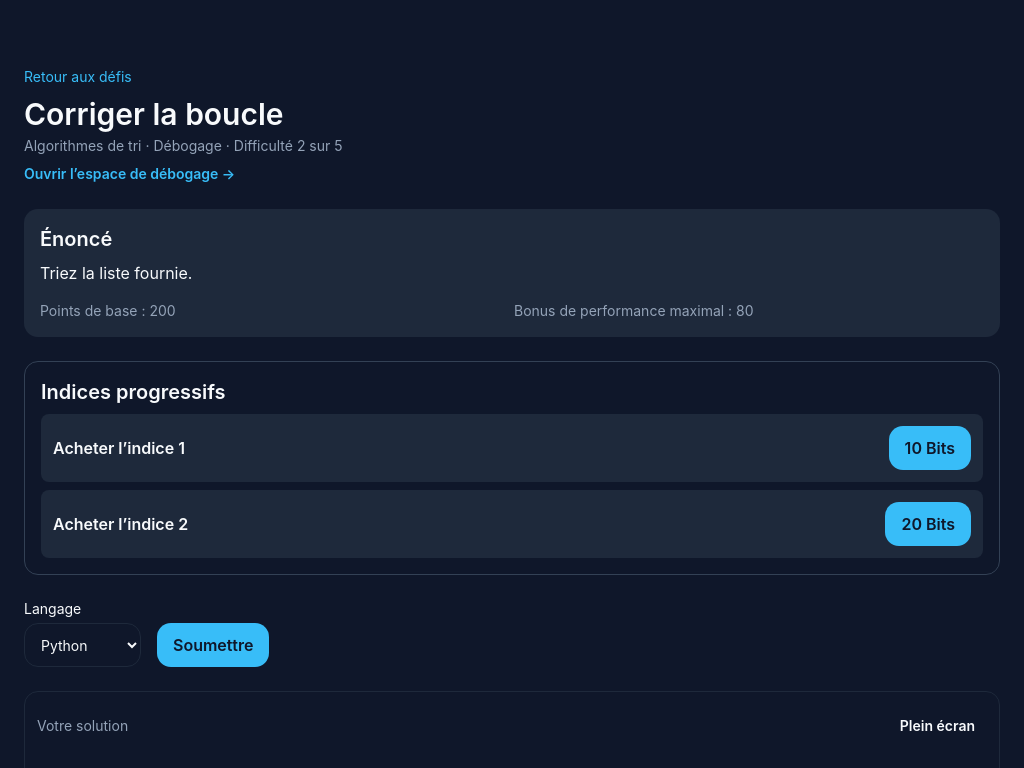
Test: indices progressifs (T196) › n’affiche le contenu qu’après achat et envoie une clé d’idempotence
Expected: the heading "Corriger la boucle" is shown, left=24, top=96, right=284, bottom=132
Expected: the text "inspectez la borne" is not shown
Click the button with aria-label "Acheter l’indice 1" at (930, 448), box left=889, top=426, right=971, bottom=470
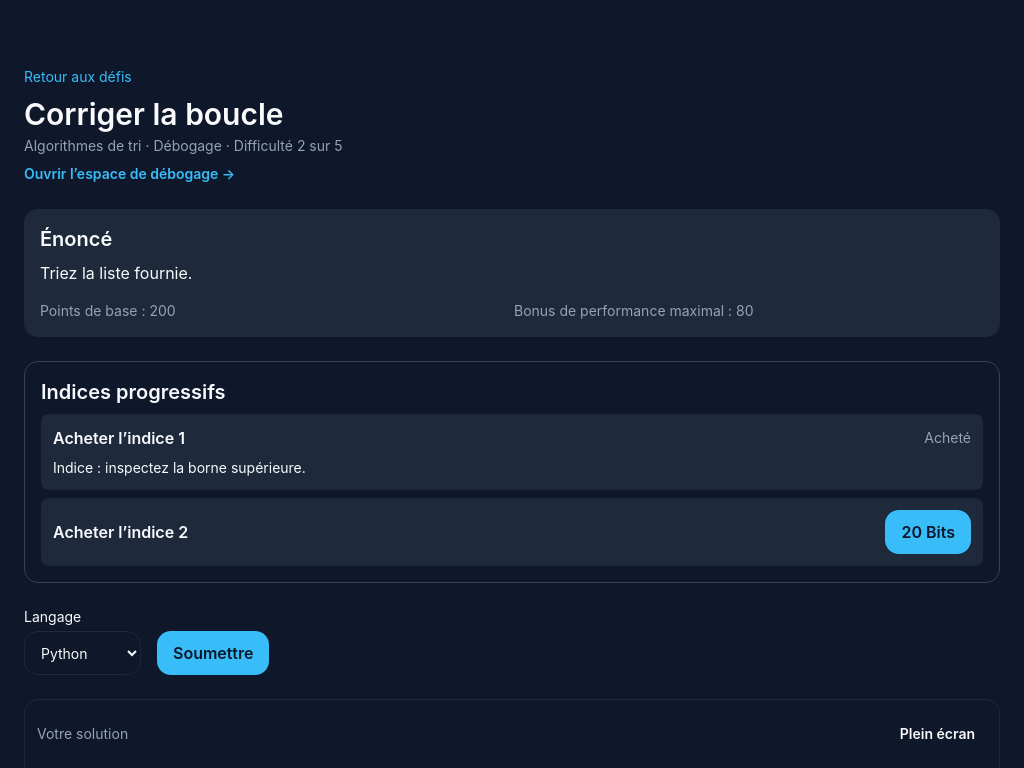
Expected: the button with aria-label "Acheter l’indice 2" is shown, left=885, top=510, right=971, bottom=554
Expected: the text "Indice : inspectez la borne supérieure." is shown, left=53, top=459, right=306, bottom=476
